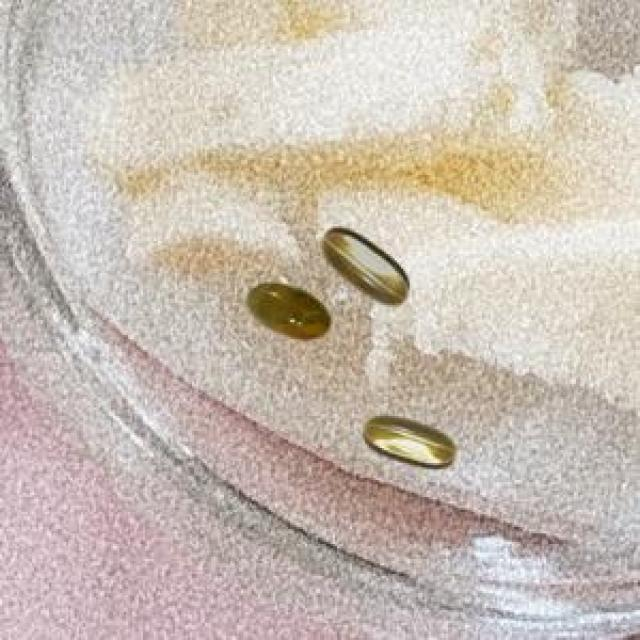Fish_Oil: (238, 220, 416, 352), (355, 398, 466, 476)
